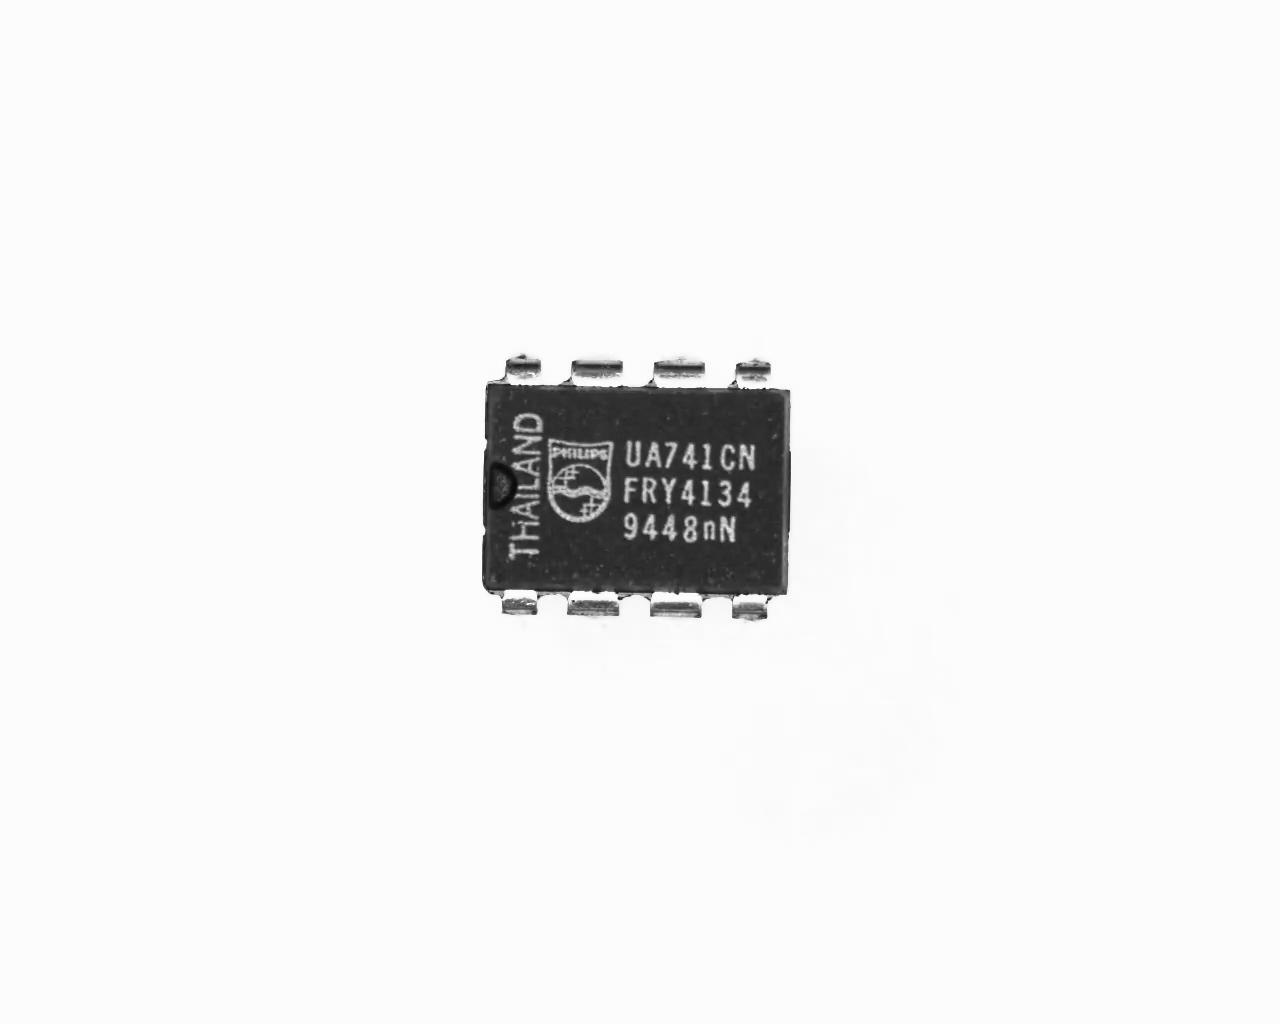Leg: (648, 351, 715, 391), (563, 352, 631, 389), (643, 592, 714, 623), (723, 352, 781, 389), (561, 589, 626, 619), (496, 351, 543, 386), (724, 594, 777, 623), (493, 591, 545, 620)
